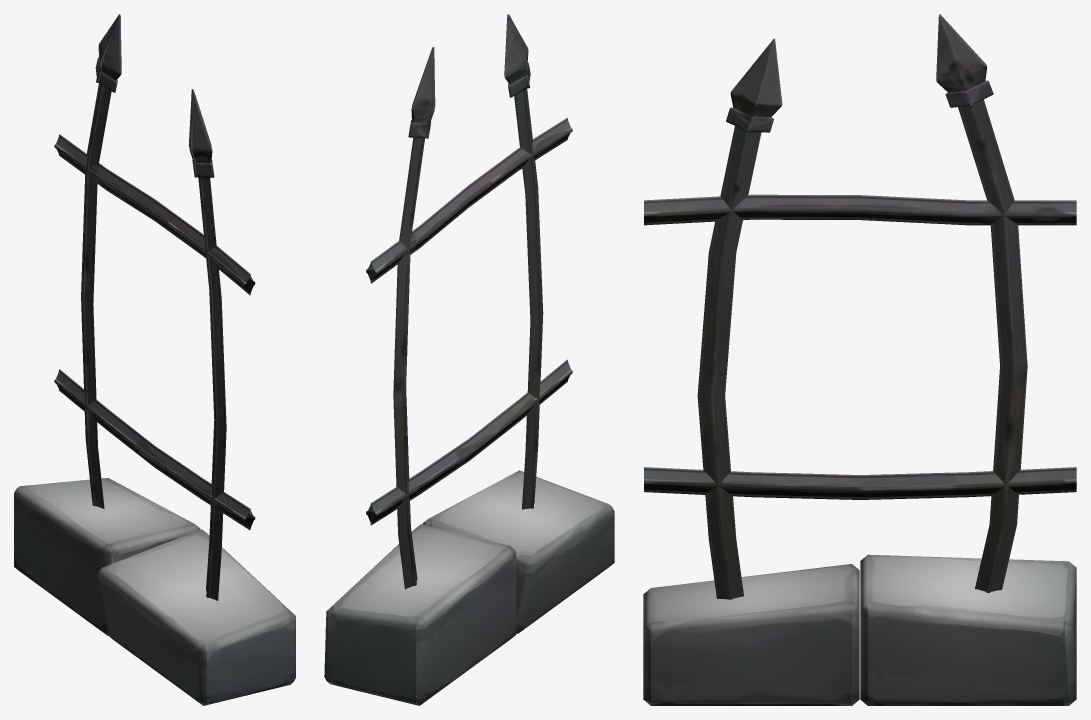
The model's file is Fence3.fbx.
The picture shows the model from 3 angles, left to right: view 1: azimuth 30°, elevation 25°; view 2: azimuth 150°, elevation 25°; view 3: azimuth 270°, elevation 25°; orthographic projection. The views are drawn at different scales.
Parts seen in each view (by area): view 1: Fence_3:Mesh; view 2: Fence_3:Mesh; view 3: Fence_3:Mesh.
Boxes of the visible parts, <box> form: Fence_3:Mesh: <box>14,14,295,705</box>; Fence_3:Mesh: <box>324,14,614,705</box>; Fence_3:Mesh: <box>643,14,1076,705</box>.
Size of the model in its own units: 0.333 by 1.7 by 1.
